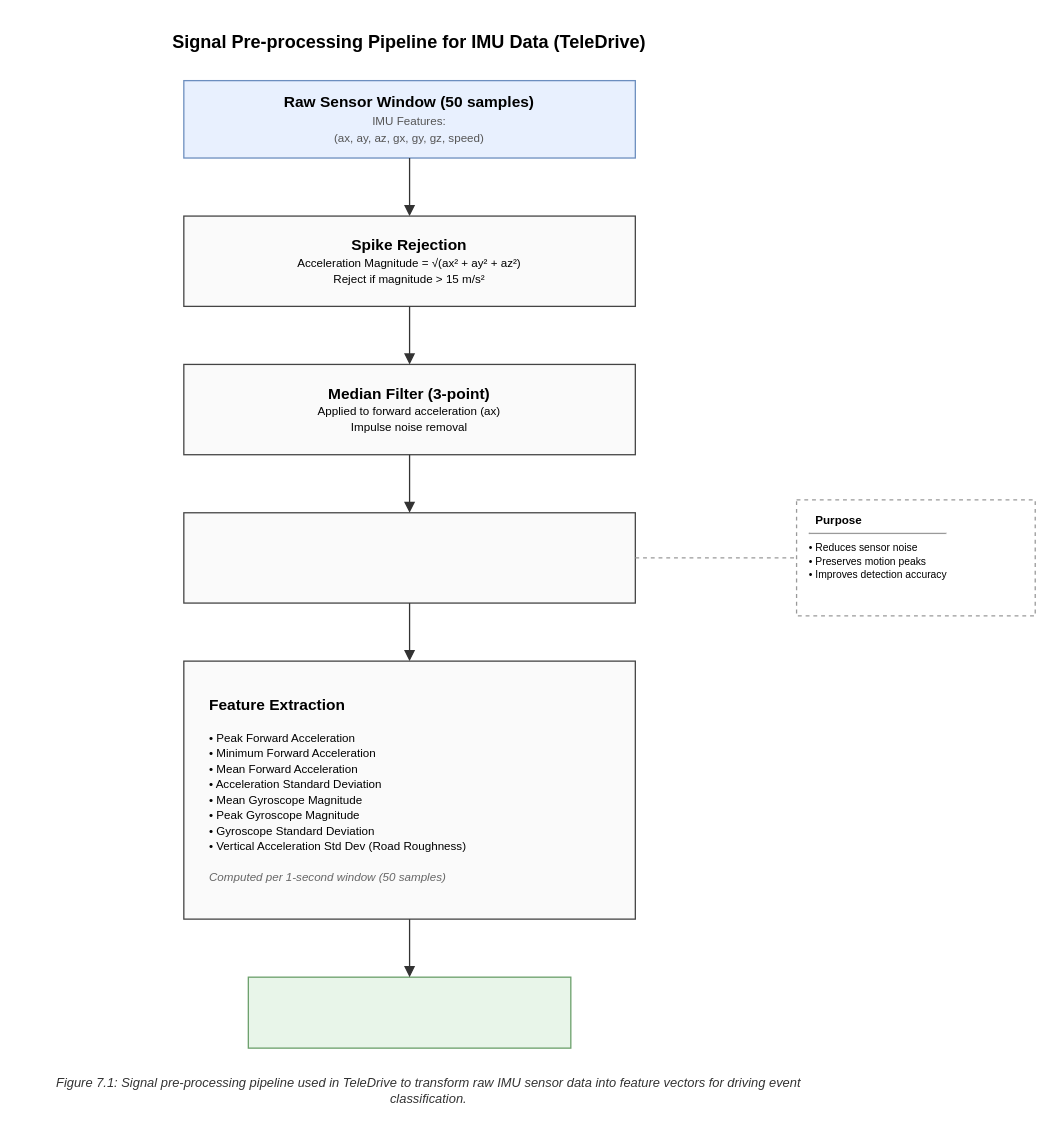
This 1058x1127 diagram has some shape labels left out. The shapes that lost their labels are listed below. From the top down, each one's box as (x1, y1, x2, y2) in pixels, then its label:
(183, 511, 635, 603): Moving Average (5-point) Sliding window average smoothing
(247, 976, 571, 1048): FeatureVector (8 statistical features)
